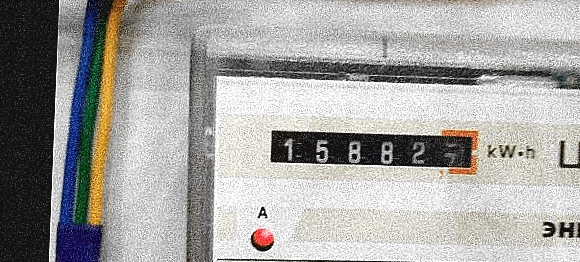1: (282, 132, 296, 162)
2: (409, 138, 427, 165)
5: (313, 135, 331, 166)
7: (442, 148, 456, 166)
8: (345, 137, 362, 165), (378, 137, 395, 165)
screen: (258, 112, 486, 182)
